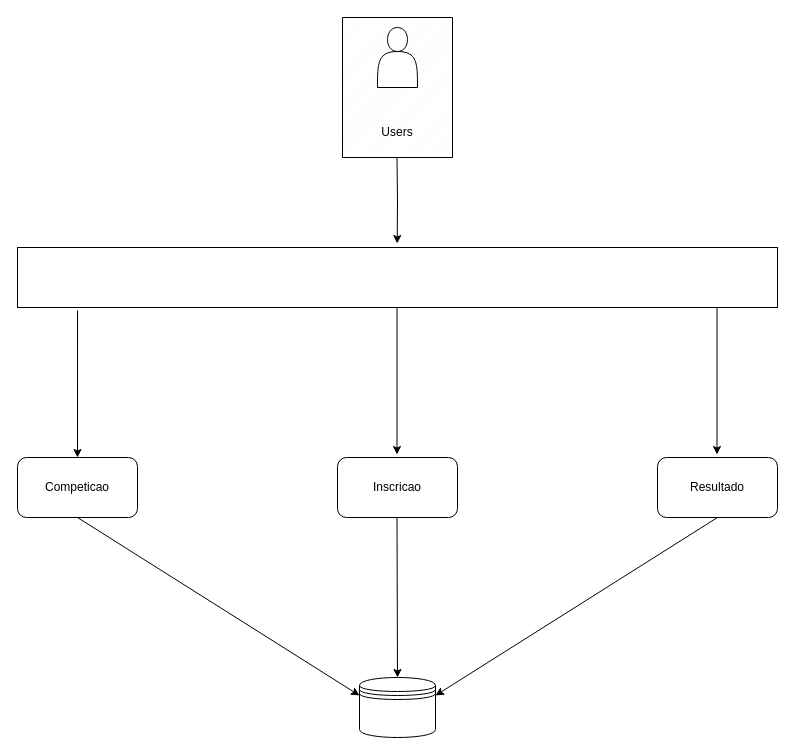
The diagram is 795 pixels wide and 755 high, and some of its shapes have lost their labels. The centre of each missing label's shape, as x and y in pixels:
"API" goes at [397,277].
"PostgreSQL" goes at [397,707].
